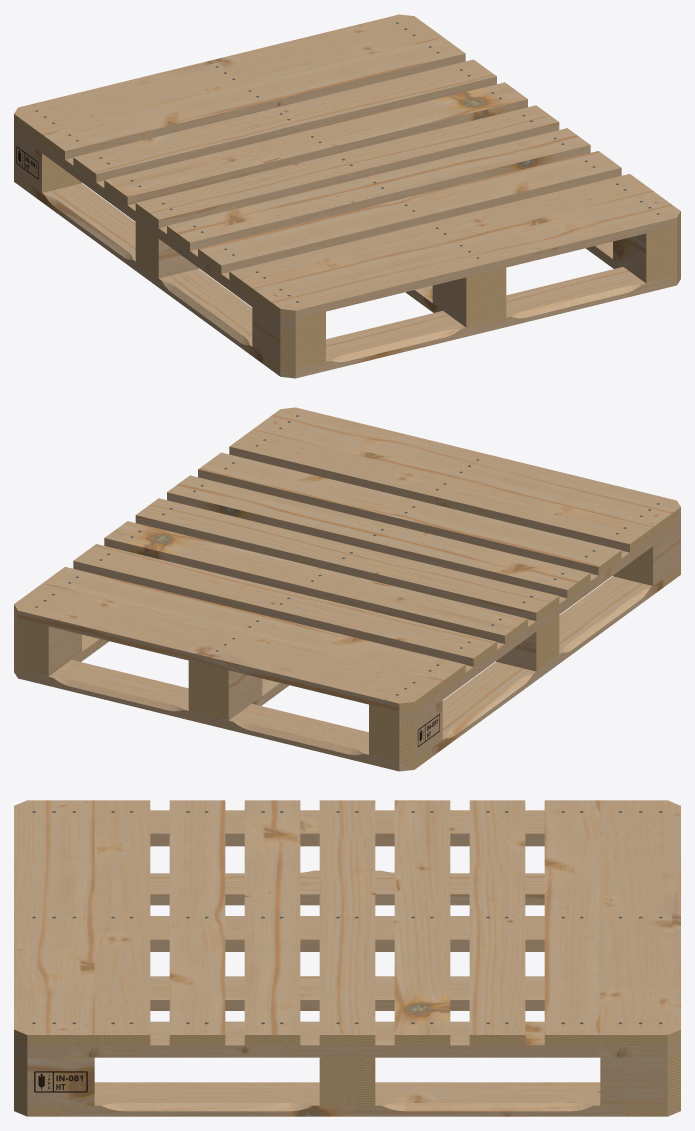
The model's file is euro-industrial-pallet-1200x1000.glb.
3 renders of one model, top to bottom at view 1: azimuth 30°, elevation 25°; view 2: azimuth 150°, elevation 25°; view 3: azimuth 270°, elevation 25°, orthographic. The views are drawn at different scales.
Parts seen in each view (by area): view 1: euro-industrial-pallet-1200x1000; view 2: euro-industrial-pallet-1200x1000; view 3: euro-industrial-pallet-1200x1000.
Part boxes in pixels (left/top/right/bottom): euro-industrial-pallet-1200x1000: left=14, top=14, right=680, bottom=378; euro-industrial-pallet-1200x1000: left=14, top=407, right=680, bottom=771; euro-industrial-pallet-1200x1000: left=14, top=800, right=680, bottom=1116.
Size of the model in its own units: 1 by 0.163 by 1.2.
Materials: 4 (3 with a texture image).
